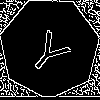Y: (24, 22, 79, 78)
